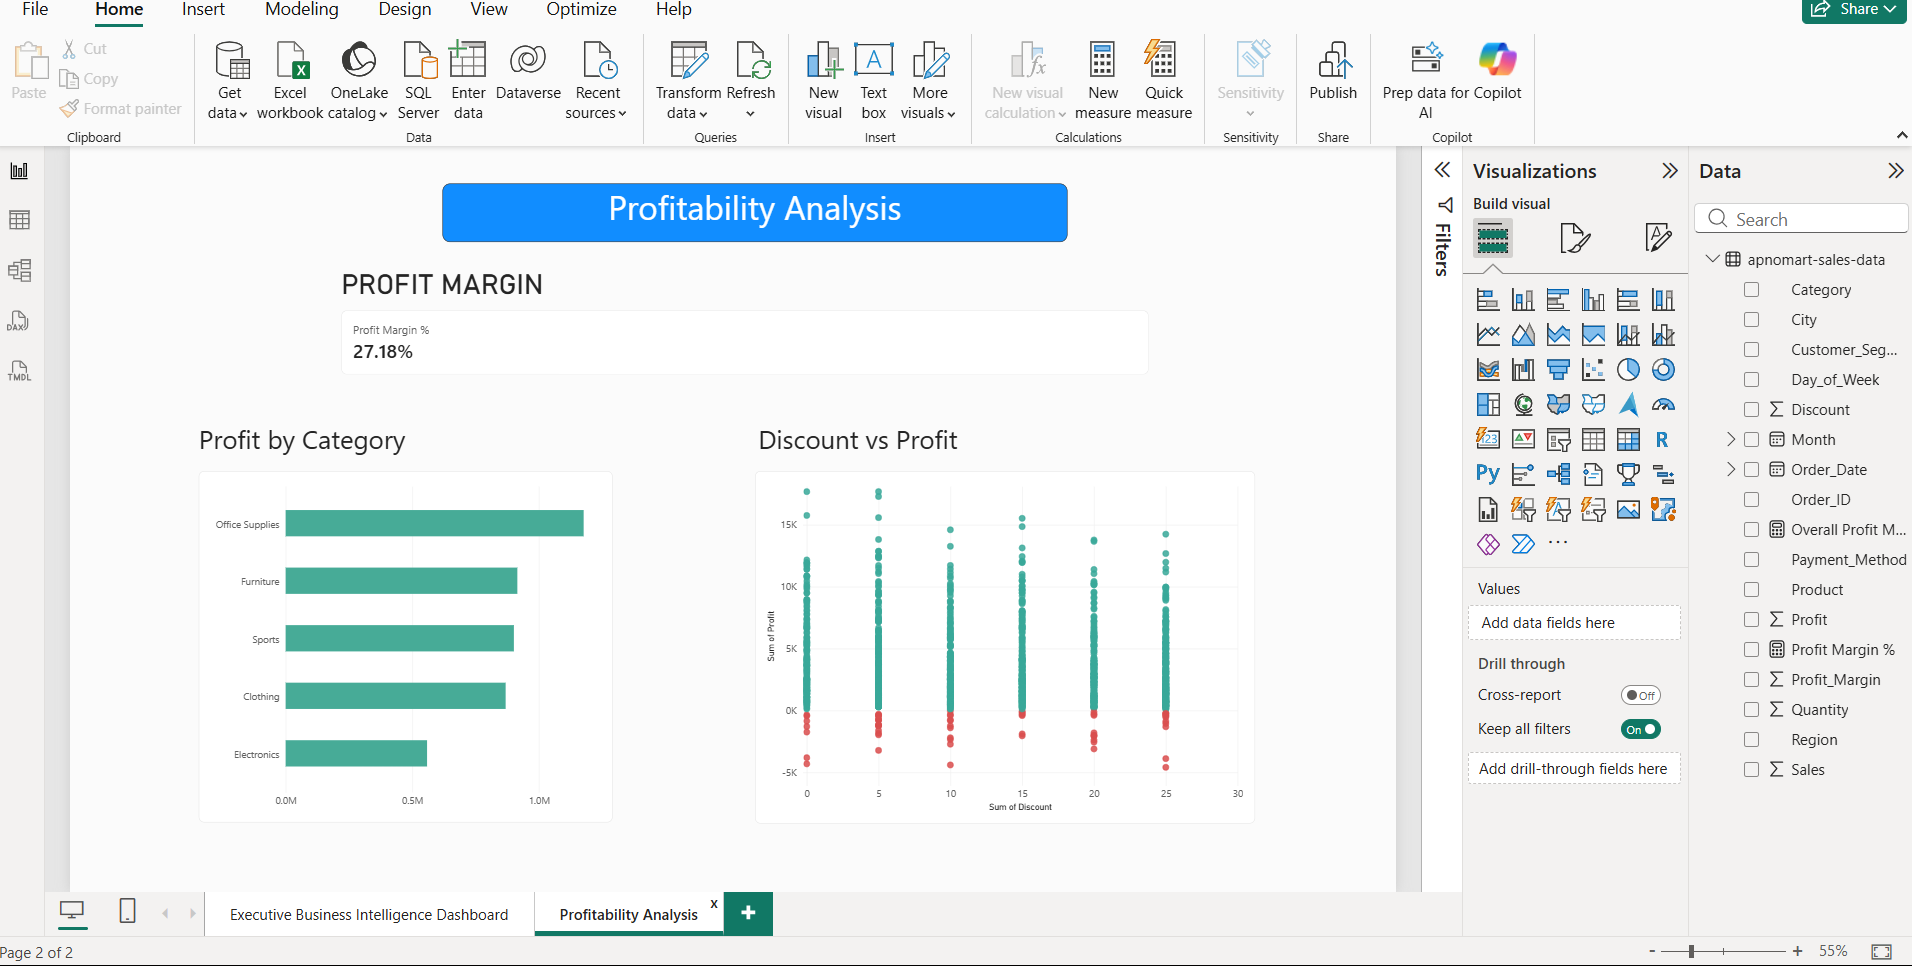

What the dashboard file says about the page in this screenshot:
{"tool":"powerbi","page":{"name":"Profitability Analysis","canvas":[1920,1080],"ordinal":1},"visuals":[{"type":"cardVisual","title":"PROFIT MARGIN ","fields":{"Data":["apnomart-sales-data.Profit Margin %"]},"box":[392.7,175.5,1169,155.6],"z":1},{"type":"clusteredBarChart","fields":{"Category":["apnomart-sales-data.Category"],"Y":["Sum(apnomart-sales-data.Profit)"]},"box":[186.4,470.5,599,508.5],"z":2},{"type":"scatterChart","fields":{"Category":["apnomart-sales-data.Order_ID"],"X":["Sum(apnomart-sales-data.Discount)"],"Y":["Sum(apnomart-sales-data.Profit)"]},"box":[991.7,470.5,723.9,510.3],"z":3},{"type":"textbox","box":[150,140,300,300],"z":4},{"type":"textbox","box":[0,140,300,300],"z":5},{"type":"textbox","box":[450,140,255,300],"z":6},{"type":"textbox","box":[1638,139,282,166],"z":8},{"type":"textbox","box":[150,749,300,182],"z":11},{"type":"textbox","box":[0,449,300,300],"z":13},{"type":"textbox","box":[539.3,54.3,904.8,85.1],"z":14},{"type":"textbox","box":[186.4,398.1,1436.9,50.7],"z":15}]}

Visuals, with their boxes on the page's 1920x1080 design canvas (x1, y1, x2, y2). These are canvas units, not pixel positions in the 1912x966 screenshot, which may show the page scaled, cropped or inside an application window:
"PROFIT MARGIN " cardVisual: (left=393, top=176, right=1562, bottom=331)
clusteredBarChart - apnomart-sales-data.Category x Sum(apnomart-sales-data.Profit): (left=186, top=470, right=785, bottom=979)
scatterChart - apnomart-sales-data.Order_ID x Sum(apnomart-sales-data.Discount): (left=992, top=470, right=1716, bottom=981)
textbox: (left=150, top=140, right=450, bottom=440)
textbox: (left=0, top=140, right=300, bottom=440)
textbox: (left=450, top=140, right=705, bottom=440)
textbox: (left=1638, top=139, right=1920, bottom=305)
textbox: (left=150, top=749, right=450, bottom=931)
textbox: (left=0, top=449, right=300, bottom=749)
textbox: (left=539, top=54, right=1444, bottom=139)
textbox: (left=186, top=398, right=1623, bottom=449)
